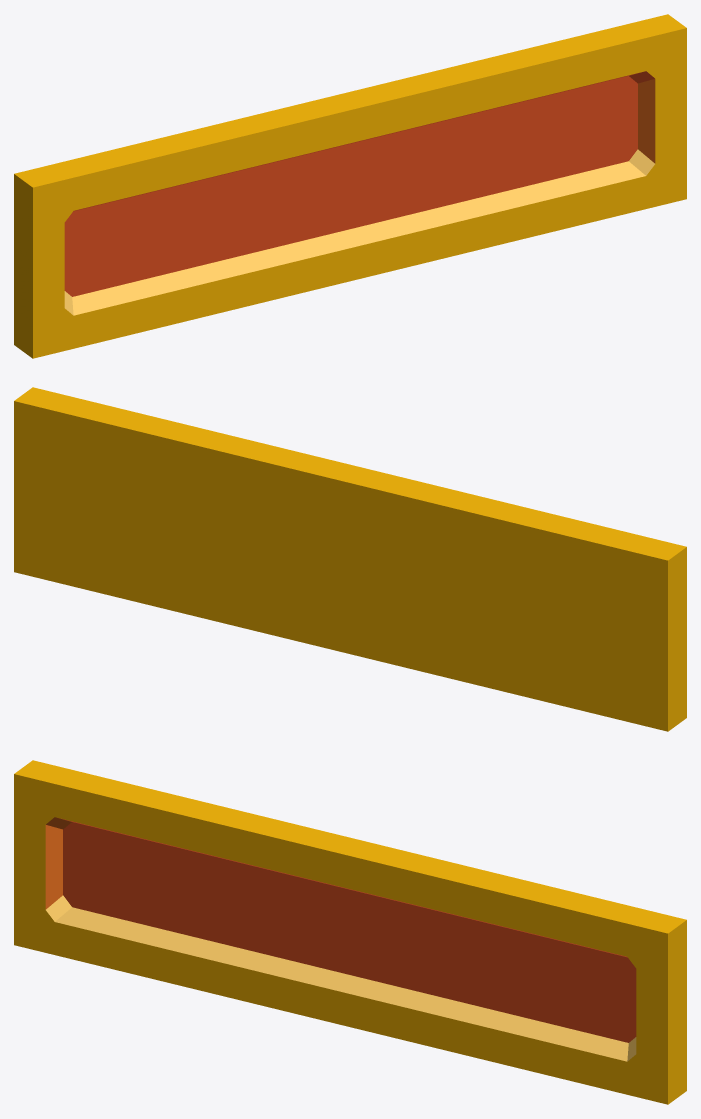
Rendered from D_FBX_09_Mover_Line.fbx.
The picture shows the model from 3 angles, top to bottom: view 1: azimuth 30°, elevation 25°; view 2: azimuth 150°, elevation 25°; view 3: azimuth 330°, elevation 25°; orthographic projection.
Visible parts, largest first — view 1: D_FBX_09_Mover_Line; view 2: D_FBX_09_Mover_Line; view 3: D_FBX_09_Mover_Line.
Boxes of the visible parts, box(x1,y1,x2,y2) form: D_FBX_09_Mover_Line: box(14, 14, 686, 358); D_FBX_09_Mover_Line: box(14, 387, 686, 731); D_FBX_09_Mover_Line: box(14, 760, 686, 1104).
Bounding box in the file's own units: 200 × 50 × 10.
